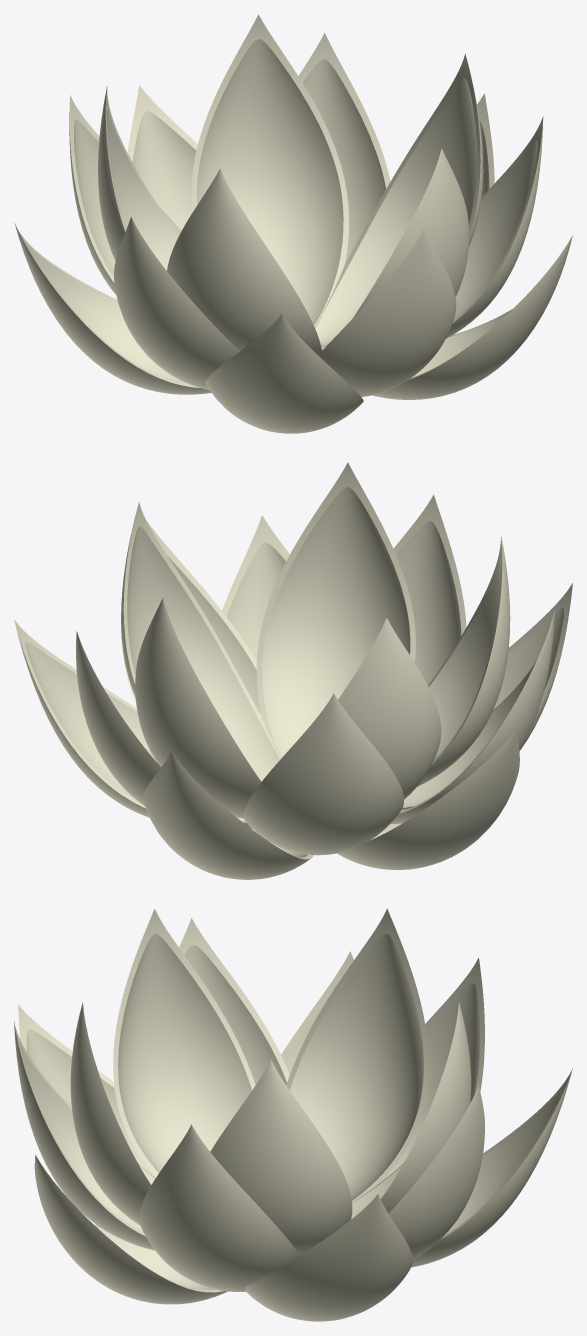
File: LotusPetals.glb
The picture shows the model from 3 angles, top to bottom: view 1: azimuth 30°, elevation 25°; view 2: azimuth 150°, elevation 25°; view 3: azimuth 270°, elevation 25°; orthographic projection. The views are drawn at different scales.
Visible parts, largest first — view 1: LotusPetals; view 2: LotusPetals; view 3: LotusPetals.
Part boxes in pixels (box(x1,y1,x2,y2)): LotusPetals: box(14, 14, 572, 433); LotusPetals: box(14, 462, 572, 879); LotusPetals: box(14, 908, 572, 1321).
Bounding box in the file's own units: 63.12 × 34.99 × 61.42.
